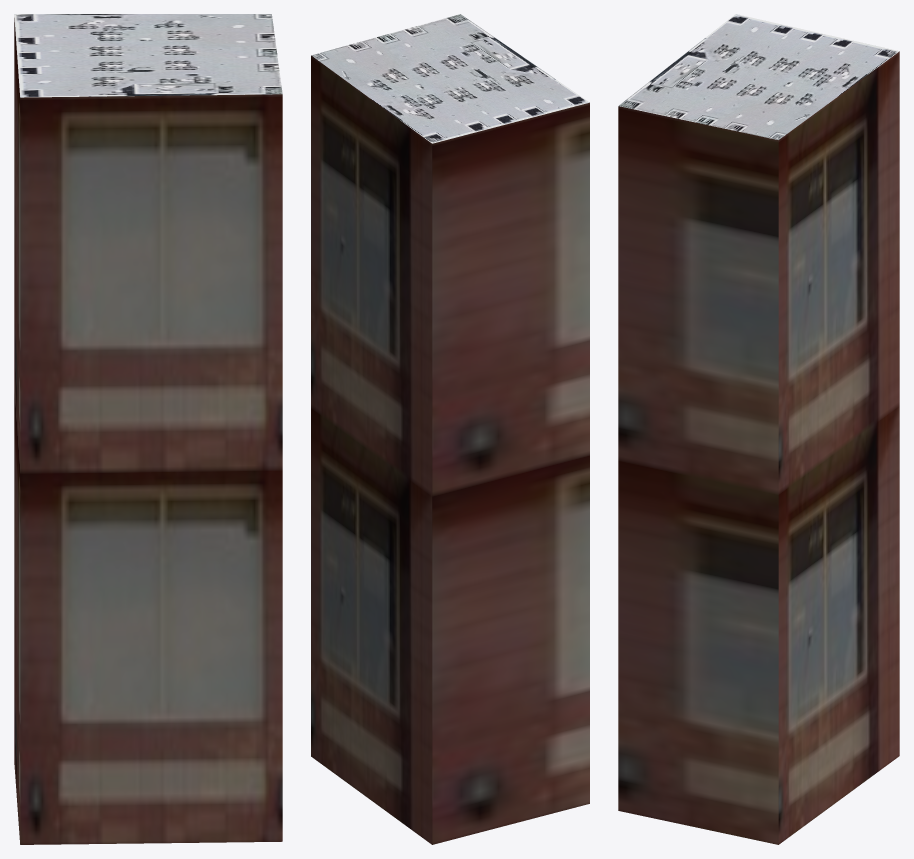
File: ResTex__362.fbx
The picture shows the model from 3 angles, left to right: view 1: azimuth 30°, elevation 25°; view 2: azimuth 150°, elevation 25°; view 3: azimuth 270°, elevation 25°; orthographic projection. The views are drawn at different scales.
Parts seen in each view (by area): view 1: CityEngineMaterial_13_m, CityEngineMaterial_8_m; view 2: CityEngineMaterial_13_m, CityEngineMaterial_8_m; view 3: CityEngineMaterial_13_m, CityEngineMaterial_8_m.
Part boxes in pixels (bbox=[...]): CityEngineMaterial_13_m: bbox=[14, 18, 282, 844]; CityEngineMaterial_8_m: bbox=[14, 14, 282, 97]; CityEngineMaterial_13_m: bbox=[311, 55, 589, 844]; CityEngineMaterial_8_m: bbox=[311, 14, 589, 143]; CityEngineMaterial_13_m: bbox=[618, 51, 899, 844]; CityEngineMaterial_8_m: bbox=[618, 14, 899, 139].
Size of the model in its own units: 2.31 by 6 by 2.17.
Materials: 2 (2 with a texture image).
